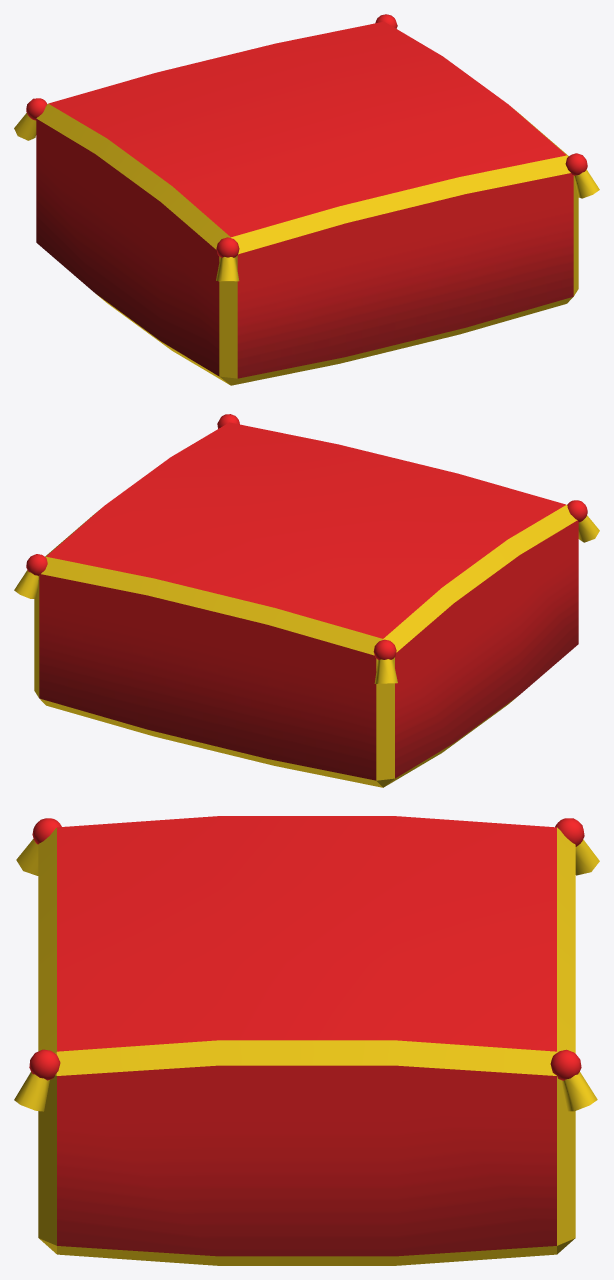
File: Red_Platform.fbx
3 views of the same model, one above another, from view 1: azimuth 30°, elevation 25°; view 2: azimuth 150°, elevation 25°; view 3: azimuth 270°, elevation 25° (orthographic). The views are drawn at different scales.
Parts seen in each view (by area): view 1: RedPlatform; view 2: RedPlatform; view 3: RedPlatform.
Part boxes in pixels (<box>): RedPlatform: <box>14,14,599,385</box>; RedPlatform: <box>14,414,599,787</box>; RedPlatform: <box>14,816,599,1265</box>.
Bounding box in the file's own units: 1.12 × 0.4836 × 1.09.
